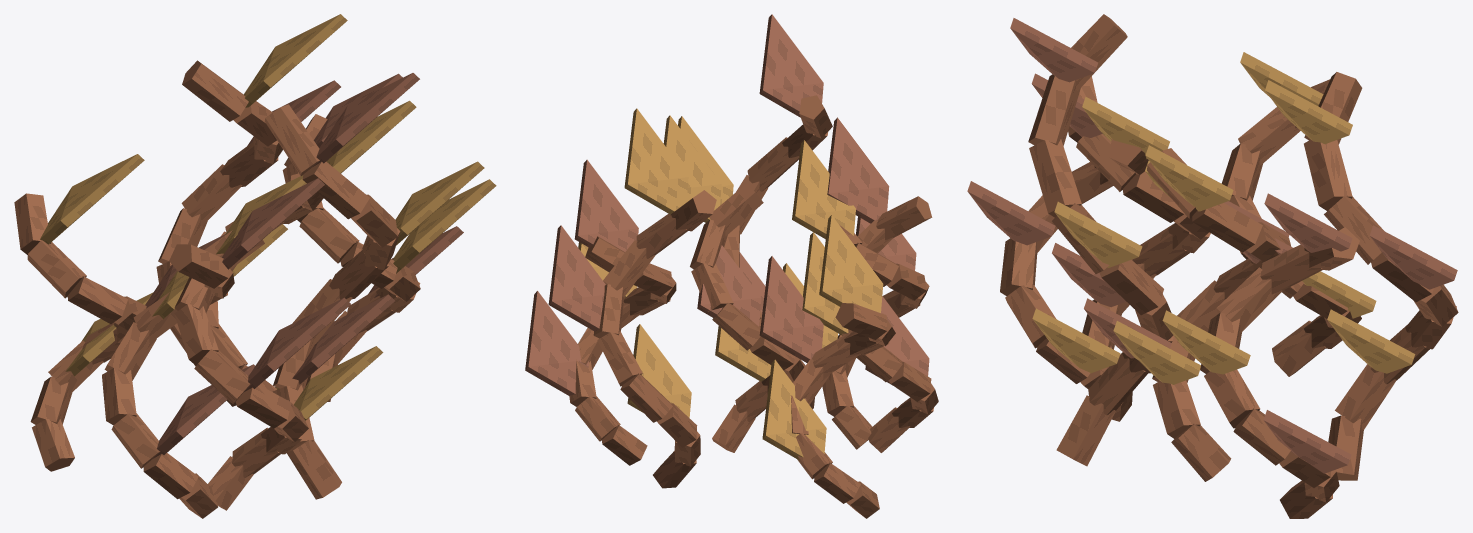
The model's file is f_alien_weed_1.glb.
The picture shows the model from 3 angles, left to right: view 1: azimuth 30°, elevation 25°; view 2: azimuth 150°, elevation 25°; view 3: azimuth 270°, elevation 25°; orthographic projection. The views are drawn at different scales.
Parts seen in each view (by area): view 1: block_jagged-side-leaf (×17), block_tightly-coiled-yellow-red-stalk-9 (×4), block_tightly-coiled-yellow-red-stalk-5 (×5), block_tightly-coiled-yellow-red-stalk-7 (×4), block_tightly-coiled-yellow-red-stalk-1 (×4), block_tightly-coiled-yellow-red-stalk-8 (×4), block_tightly-coiled-yellow-red-stalk-6 (×5), block_tightly-coiled-yellow-red-stalk-4 (×5), block_tightly-coiled-yellow-red-stalk-3 (×5), block_tightly-coiled-yellow-red-stalk-2 (×3); view 2: block_jagged-side-leaf (×20), block_tightly-coiled-yellow-red-stalk-9 (×6), block_tightly-coiled-yellow-red-stalk-1 (×6), block_tightly-coiled-yellow-red-stalk-2 (×6), block_tightly-coiled-yellow-red-stalk-8 (×6), block_tightly-coiled-yellow-red-stalk-7 (×5), block_tightly-coiled-yellow-red-stalk-6 (×4), block_tightly-coiled-yellow-red-stalk-5 (×4), block_tightly-coiled-yellow-red-stalk-4 (×3), block_tightly-coiled-yellow-red-stalk-3 (×3); view 3: block_jagged-side-leaf (×18), block_tightly-coiled-yellow-red-stalk-8 (×6), block_tightly-coiled-yellow-red-stalk-7 (×7), block_tightly-coiled-yellow-red-stalk-4 (×7), block_tightly-coiled-yellow-red-stalk-1 (×5), block_tightly-coiled-yellow-red-stalk-5 (×6), block_tightly-coiled-yellow-red-stalk-2 (×5), block_tightly-coiled-yellow-red-stalk-9 (×5), block_tightly-coiled-yellow-red-stalk-6 (×3), block_tightly-coiled-yellow-red-stalk-3 (×3).
Part boxes in pixels (box(x1,y1,x2,y2)): block_jagged-side-leaf (×17): box(40, 14, 496, 458); block_tightly-coiled-yellow-red-stalk-9 (×4): box(14, 60, 319, 288); block_tightly-coiled-yellow-red-stalk-5 (×5): box(104, 164, 420, 428); block_tightly-coiled-yellow-red-stalk-7 (×4): box(67, 194, 398, 365); block_tightly-coiled-yellow-red-stalk-1 (×4): box(32, 419, 341, 518); block_tightly-coiled-yellow-red-stalk-8 (×4): box(27, 101, 369, 313); block_tightly-coiled-yellow-red-stalk-6 (×5): box(133, 142, 400, 403); block_tightly-coiled-yellow-red-stalk-4 (×5): box(102, 208, 352, 441); block_tightly-coiled-yellow-red-stalk-3 (×5): box(48, 287, 395, 468); block_tightly-coiled-yellow-red-stalk-2 (×3): box(30, 376, 280, 499); block_jagged-side-leaf (×20): box(525, 14, 929, 460); block_tightly-coiled-yellow-red-stalk-9 (×6): box(585, 95, 932, 339); block_tightly-coiled-yellow-red-stalk-1 (×6): box(602, 404, 909, 518); block_tightly-coiled-yellow-red-stalk-2 (×6): box(575, 370, 933, 503); block_tightly-coiled-yellow-red-stalk-8 (×6): box(634, 124, 898, 296); block_tightly-coiled-yellow-red-stalk-7 (×5): box(603, 137, 926, 355); block_tightly-coiled-yellow-red-stalk-6 (×4): box(593, 284, 860, 378); block_tightly-coiled-yellow-red-stalk-5 (×4): box(597, 330, 902, 404); block_tightly-coiled-yellow-red-stalk-4 (×3): box(578, 328, 931, 422); block_tightly-coiled-yellow-red-stalk-3 (×3): box(569, 359, 832, 479); block_jagged-side-leaf (×18): box(967, 18, 1457, 473); block_tightly-coiled-yellow-red-stalk-8 (×6): box(1028, 74, 1352, 294); block_tightly-coiled-yellow-red-stalk-7 (×7): box(1029, 139, 1383, 332); block_tightly-coiled-yellow-red-stalk-4 (×7): box(1005, 223, 1456, 465); block_tightly-coiled-yellow-red-stalk-1 (×5): box(1056, 320, 1363, 518); block_tightly-coiled-yellow-red-stalk-5 (×6): box(1000, 223, 1458, 428); block_tightly-coiled-yellow-red-stalk-2 (×5): box(1088, 315, 1396, 502); block_tightly-coiled-yellow-red-stalk-9 (×5): box(1071, 14, 1362, 270); block_tightly-coiled-yellow-red-stalk-6 (×3): box(1052, 203, 1433, 373); block_tightly-coiled-yellow-red-stalk-3 (×3): box(1036, 324, 1429, 487).
Bounding box in the file's own units: 0.6217 × 0.6056 × 0.5575.
1 material, 1 textured.
